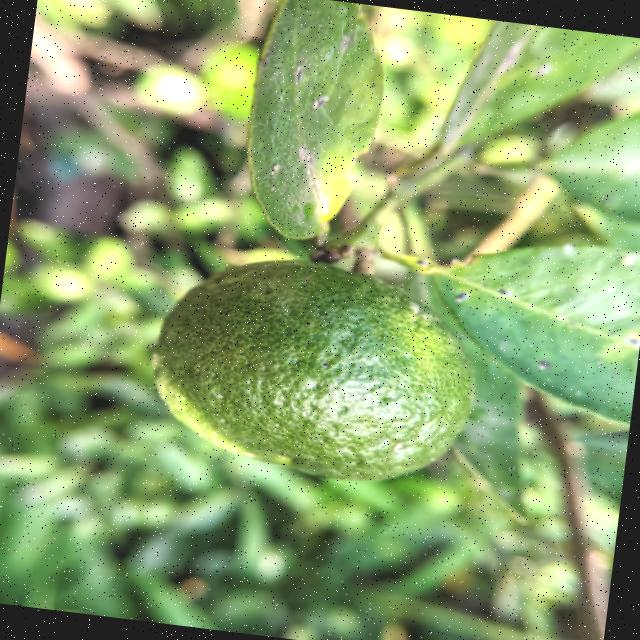Unripe: (141, 242, 487, 496)
